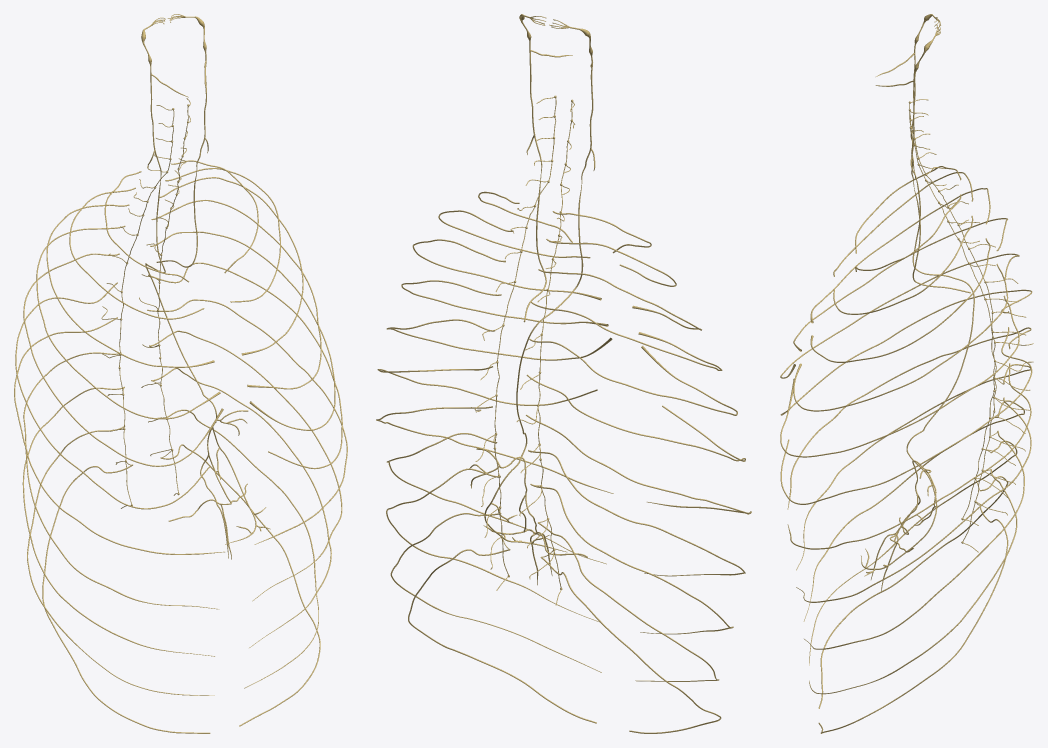
File: thorax-nerves-balanced.glb
3 views of the same model, side by side, from view 1: azimuth 30°, elevation 25°; view 2: azimuth 150°, elevation 25°; view 3: azimuth 270°, elevation 25° (orthographic). The views are drawn at different scales.
Visible parts, largest first — view 1: za.intercostal-nerves-r, za.intercostal-nerves-l, za.vagus-nerve-x-r, za.vagus-nerve-x-l, za.sympathetic-trunk-r; view 2: za.intercostal-nerves-l, za.intercostal-nerves-r, za.vagus-nerve-x-r, za.vagus-nerve-x-l, za.sympathetic-trunk-l, za.sympathetic-trunk-r, za.sympathetic-nerves-l; view 3: za.intercostal-nerves-l, za.intercostal-nerves-r, za.vagus-nerve-x-r, za.vagus-nerve-x-l, za.sympathetic-trunk-l, za.sympathetic-nerves-l, za.sympathetic-nerves-r, za.sympathetic-trunk-r.
Boxes of the visible parts, x1,y1,x2,y2 form: za.intercostal-nerves-r: [14, 171, 224, 733]; za.intercostal-nerves-l: [147, 160, 347, 726]; za.vagus-nerve-x-r: [141, 17, 270, 559]; za.vagus-nerve-x-l: [156, 14, 208, 267]; za.sympathetic-trunk-r: [119, 105, 174, 508]; za.intercostal-nerves-l: [376, 191, 613, 723]; za.intercostal-nerves-r: [526, 211, 751, 733]; za.vagus-nerve-x-r: [469, 19, 595, 585]; za.vagus-nerve-x-l: [519, 14, 572, 322]; za.sympathetic-trunk-l: [494, 97, 556, 590]; za.sympathetic-trunk-r: [538, 101, 574, 605]; za.sympathetic-nerves-l: [474, 116, 553, 569]; za.intercostal-nerves-l: [780, 194, 1032, 733]; za.intercostal-nerves-r: [780, 166, 1032, 708]; za.vagus-nerve-x-r: [861, 14, 974, 590]; za.vagus-nerve-x-l: [875, 24, 970, 293]; za.sympathetic-trunk-l: [909, 110, 996, 552]; za.sympathetic-nerves-l: [911, 128, 1033, 515]; za.sympathetic-nerves-r: [912, 116, 1033, 497]; za.sympathetic-trunk-r: [909, 99, 996, 525].
Bounding box in the file's own units: 0.2744 × 0.5943 × 0.1967.
